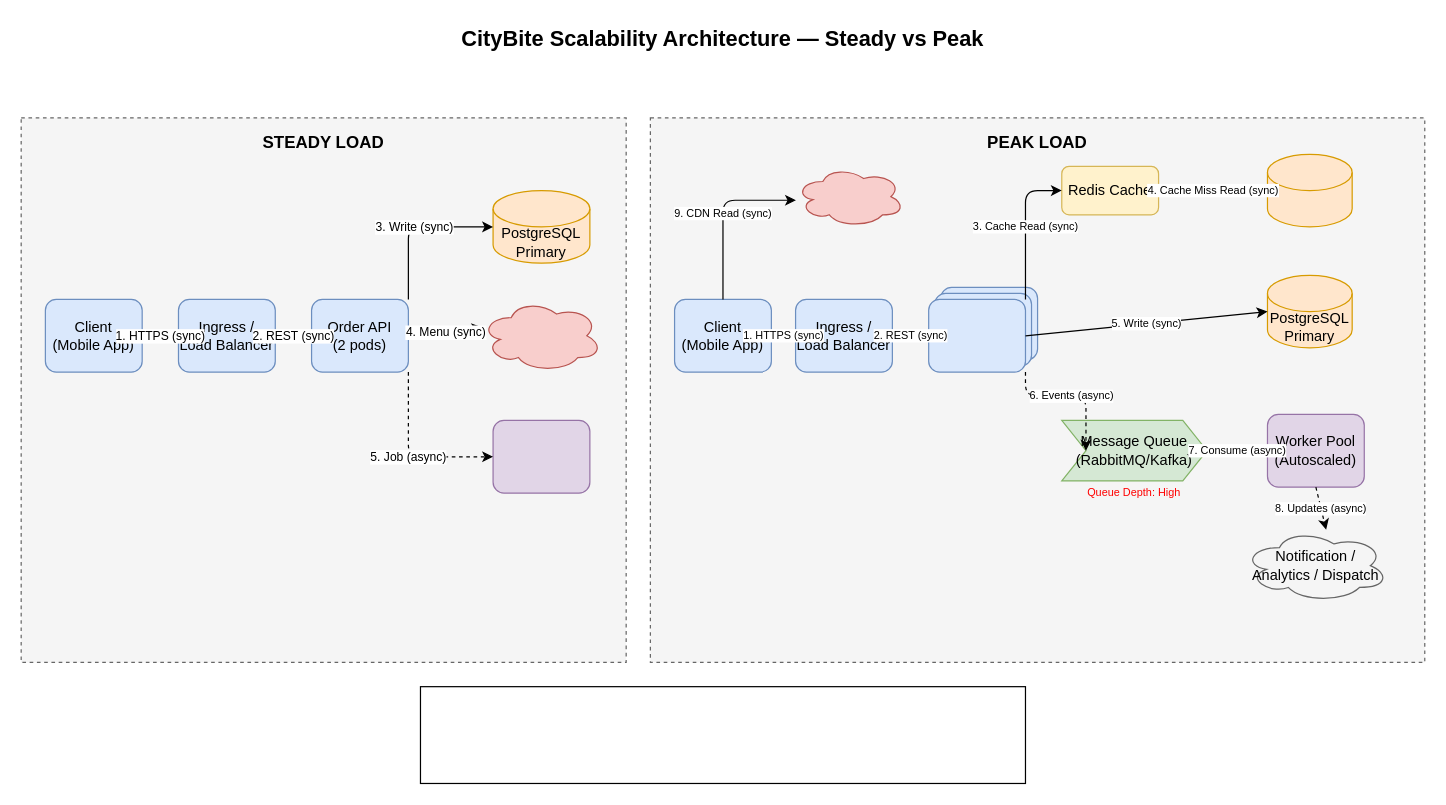
Some shapes in this 1446 by 805 pixel diagram are drawn without their labels. The centre of each missing label's shape, as x and y in pixels:
CDN (Edge Cache): point (849, 196)
Notifier Worker: point (541, 456)
Object Storage (Menu Images): point (541, 335)
Order API (HPA: 10 pods): point (976, 335)
PG Read Replica: point (1309, 190)
Solid arrow = sync REST / direct call: point (722, 734)
